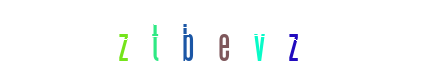B: (179, 0, 259, 80)
E: (180, 0, 260, 80)
T: (156, 0, 236, 80)
V: (184, 0, 264, 80)
Z: (83, 0, 163, 80), (190, 0, 270, 80)
